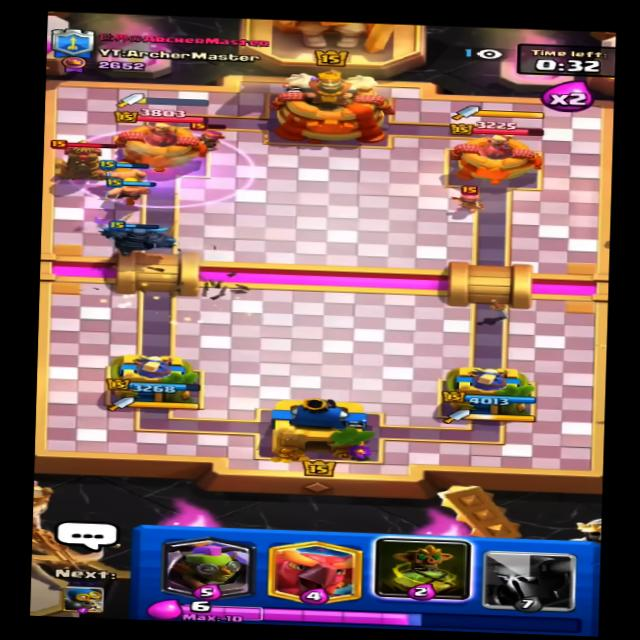archer: (186, 121, 225, 148), (449, 186, 486, 210)
tesla: (44, 136, 124, 190)
